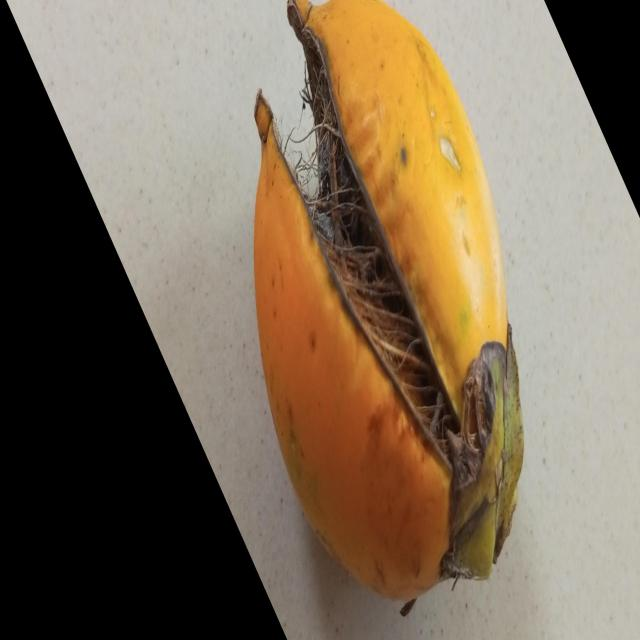damaged: (253, 0, 522, 606)
